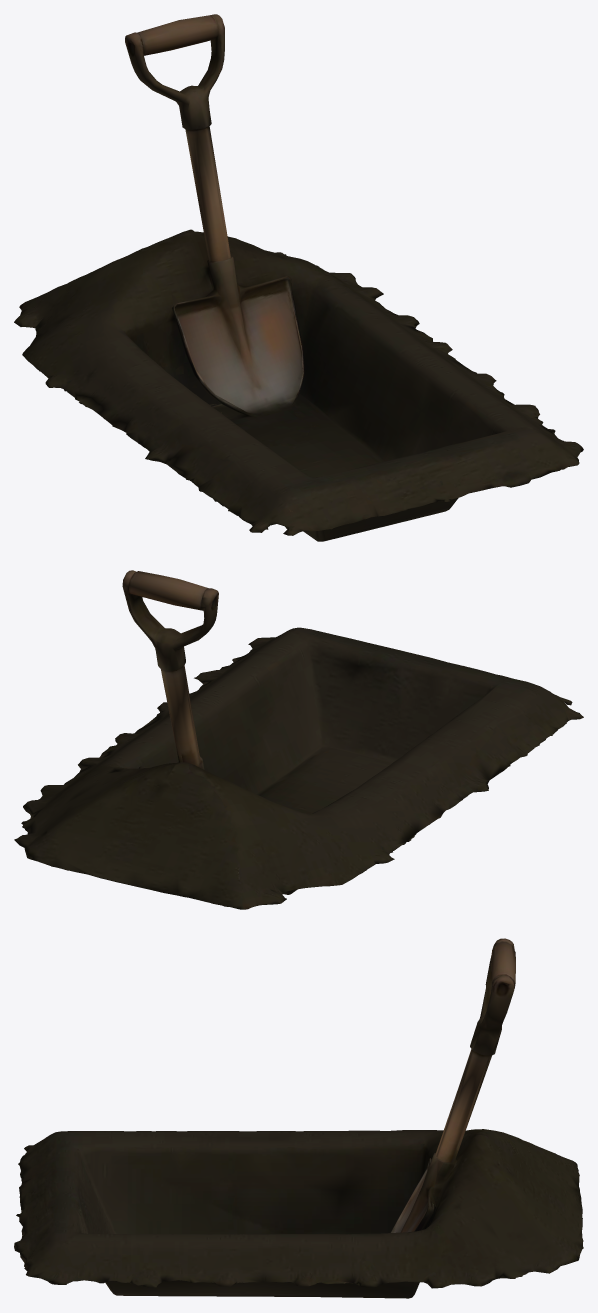
The model's file is Opengrave.opt.glb.
3 renders of one model, top to bottom at view 1: azimuth 30°, elevation 25°; view 2: azimuth 150°, elevation 25°; view 3: azimuth 270°, elevation 25°, orthographic. The views are drawn at different scales.
Parts seen in each view (by area): view 1: node_0; view 2: node_0; view 3: node_0.
Boxes of the visible parts, x1,y1,x2,y2 form: node_0: [14, 14, 583, 541]; node_0: [14, 570, 583, 909]; node_0: [14, 938, 583, 1298].
Bounding box in the file's own units: 0.6602 × 0.6301 × 1.03.
Materials: 1 (1 with a texture image).
